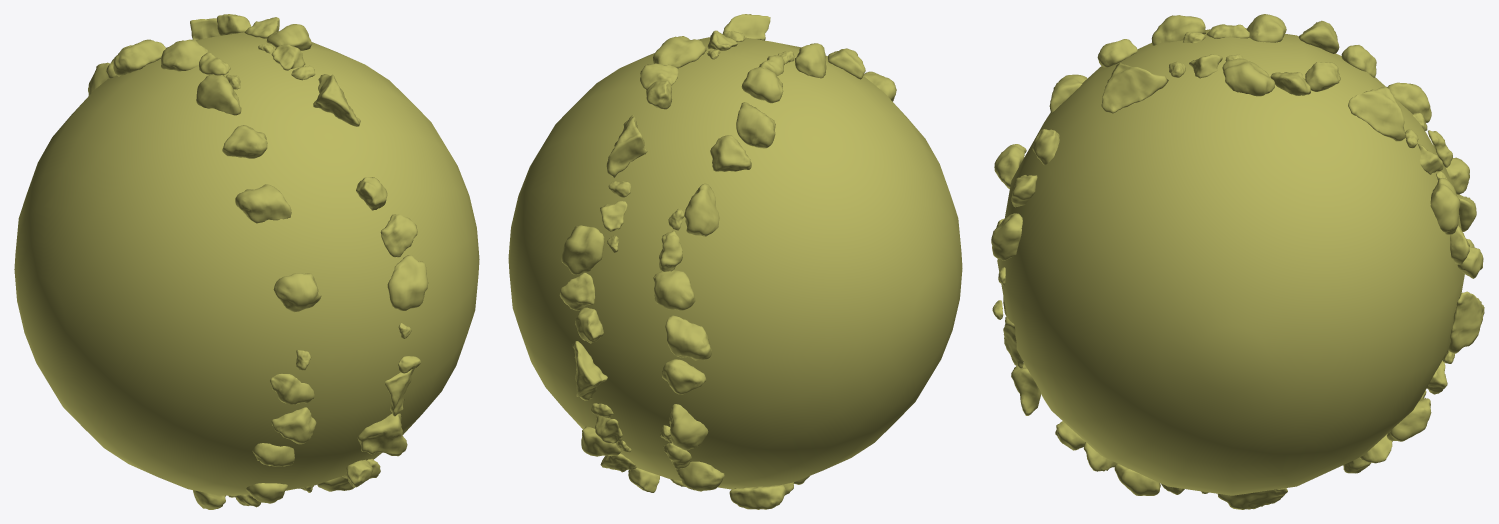
The model's file is setFloor9.fbx.
3 views of the same model, side by side, from view 1: azimuth 30°, elevation 25°; view 2: azimuth 150°, elevation 25°; view 3: azimuth 270°, elevation 25° (orthographic). The views are drawn at different scales.
Visible parts, largest first — view 1: pSphere5, moss_rock_002 (×3), moss_rock_001 (×3), moss_rock_007 (×2), moss_rock_008 (×3), moss_rock_010 (×2), moss_rock_012 (×2), moss_rock_013 (×3), moss_rock_003 (×2), moss_rock_006, moss_rock_009; view 2: pSphere5, moss_rock_002 (×3), moss_rock_007 (×3), moss_rock_001 (×3), moss_rock_006 (×3), moss_rock_008 (×3), moss_rock_010 (×3), moss_rock_013 (×3), moss_rock_009 (×2), moss_rock_012 (×2), moss_rock_003; view 3: pSphere5, moss_rock_008 (×4), moss_rock_007 (×5), moss_rock_001 (×3), moss_rock_006 (×2), moss_rock_009 (×3), moss_rock_002 (×2), moss_rock_013 (×2), moss_rock_010 (×2), moss_rock_012.
Part boxes in pixels (bbox=[...]): pSphere5: bbox=[14, 32, 479, 495]; moss_rock_002 (×3): bbox=[113, 39, 294, 466]; moss_rock_001 (×3): bbox=[161, 39, 321, 503]; moss_rock_007 (×2): bbox=[266, 24, 428, 310]; moss_rock_008 (×3): bbox=[190, 18, 414, 416]; moss_rock_010 (×2): bbox=[222, 125, 316, 444]; moss_rock_012 (×2): bbox=[271, 44, 407, 456]; moss_rock_013 (×3): bbox=[217, 14, 387, 487]; moss_rock_003 (×2): bbox=[199, 52, 314, 404]; moss_rock_006: bbox=[196, 74, 241, 115]; moss_rock_009: bbox=[380, 214, 417, 257]; pSphere5: bbox=[508, 37, 962, 489]; moss_rock_002 (×3): bbox=[665, 102, 785, 509]; moss_rock_007 (×3): bbox=[561, 36, 706, 456]; moss_rock_001 (×3): bbox=[653, 67, 783, 491]; moss_rock_006 (×3): bbox=[669, 43, 826, 450]; moss_rock_008 (×3): bbox=[572, 14, 770, 400]; moss_rock_010 (×3): bbox=[661, 48, 865, 394]; moss_rock_013 (×3): bbox=[575, 81, 671, 492]; moss_rock_009 (×2): bbox=[559, 63, 678, 310]; moss_rock_012 (×2): bbox=[595, 201, 627, 443]; moss_rock_003: bbox=[659, 231, 682, 271]; pSphere5: bbox=[997, 28, 1464, 495]; moss_rock_008 (×4): bbox=[1101, 63, 1484, 509]; moss_rock_007 (×5): bbox=[991, 58, 1460, 495]; moss_rock_001 (×3): bbox=[994, 14, 1469, 194]; moss_rock_006 (×2): bbox=[1151, 15, 1431, 122]; moss_rock_009 (×3): bbox=[1011, 72, 1469, 264]; moss_rock_002 (×2): bbox=[1049, 20, 1339, 113]; moss_rock_013 (×2): bbox=[1032, 62, 1340, 165]; moss_rock_010 (×2): bbox=[1097, 39, 1376, 77]; moss_rock_012: bbox=[1011, 363, 1040, 415].
Size of the model in its own units: 1000 by 1069 by 1049.
